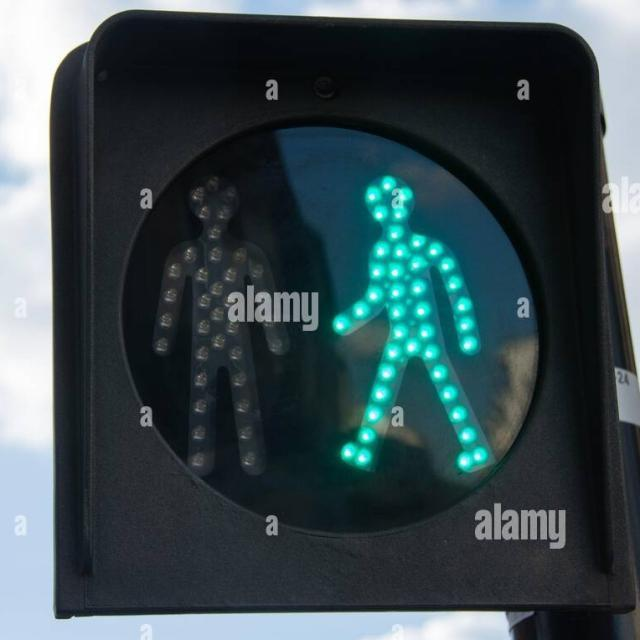green_light: (326, 154, 497, 478)
